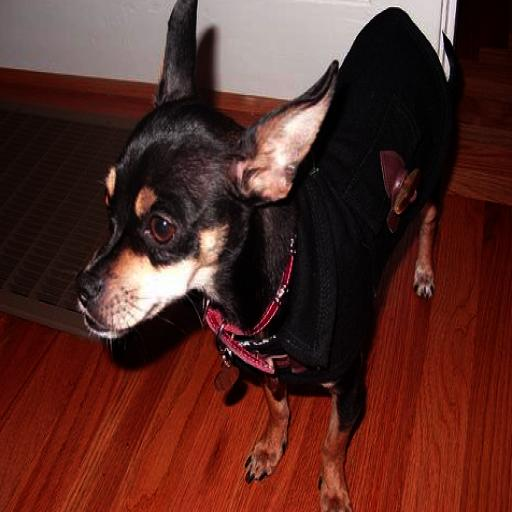dog_face: (71, 0, 340, 358)
